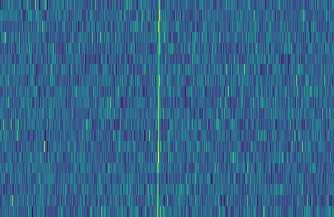signal: (152, 0, 163, 217)
